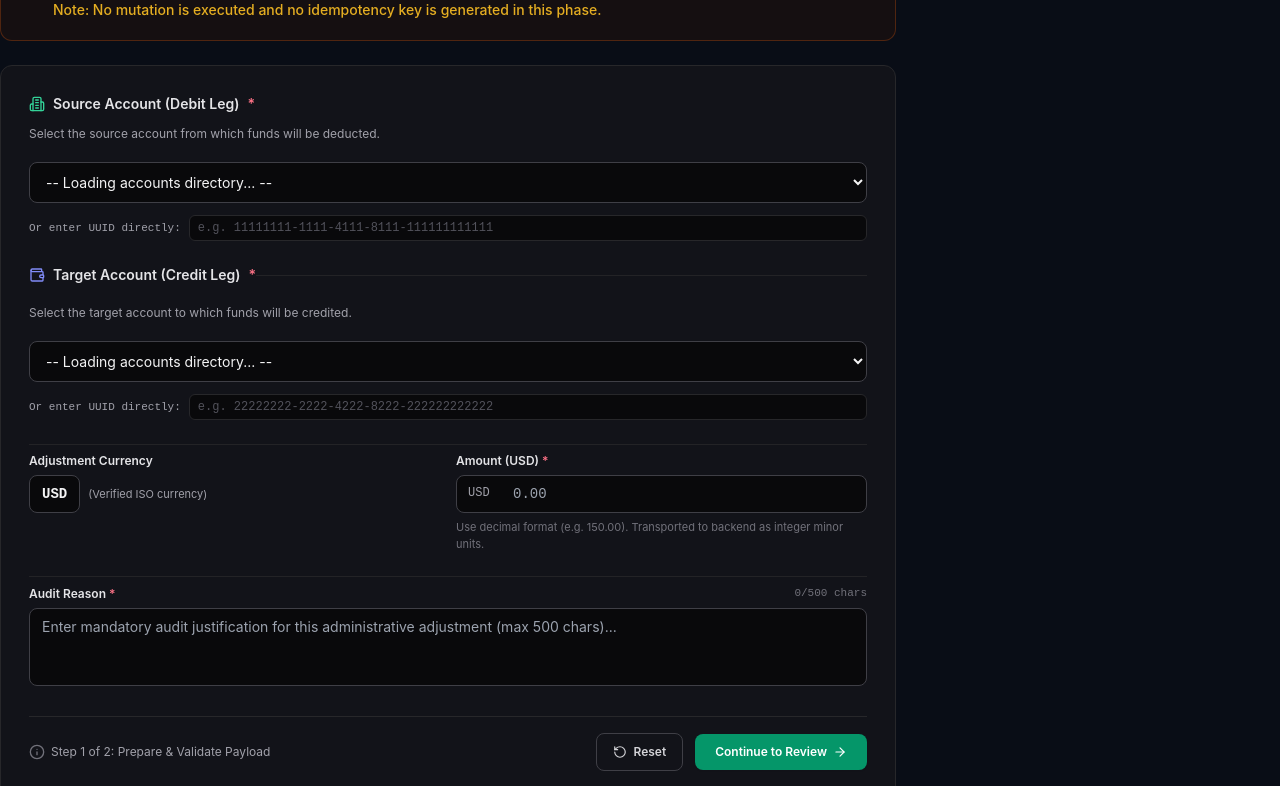
Test: Phase F7-H-B Admin Financial Adjustment Workspace & Form Component › Client-Side Form Validation › validates empty submission and renders accessible error messages
(page scrolled)
Click the button "Continue to Review" at (781, 752), box [695, 734, 867, 770]
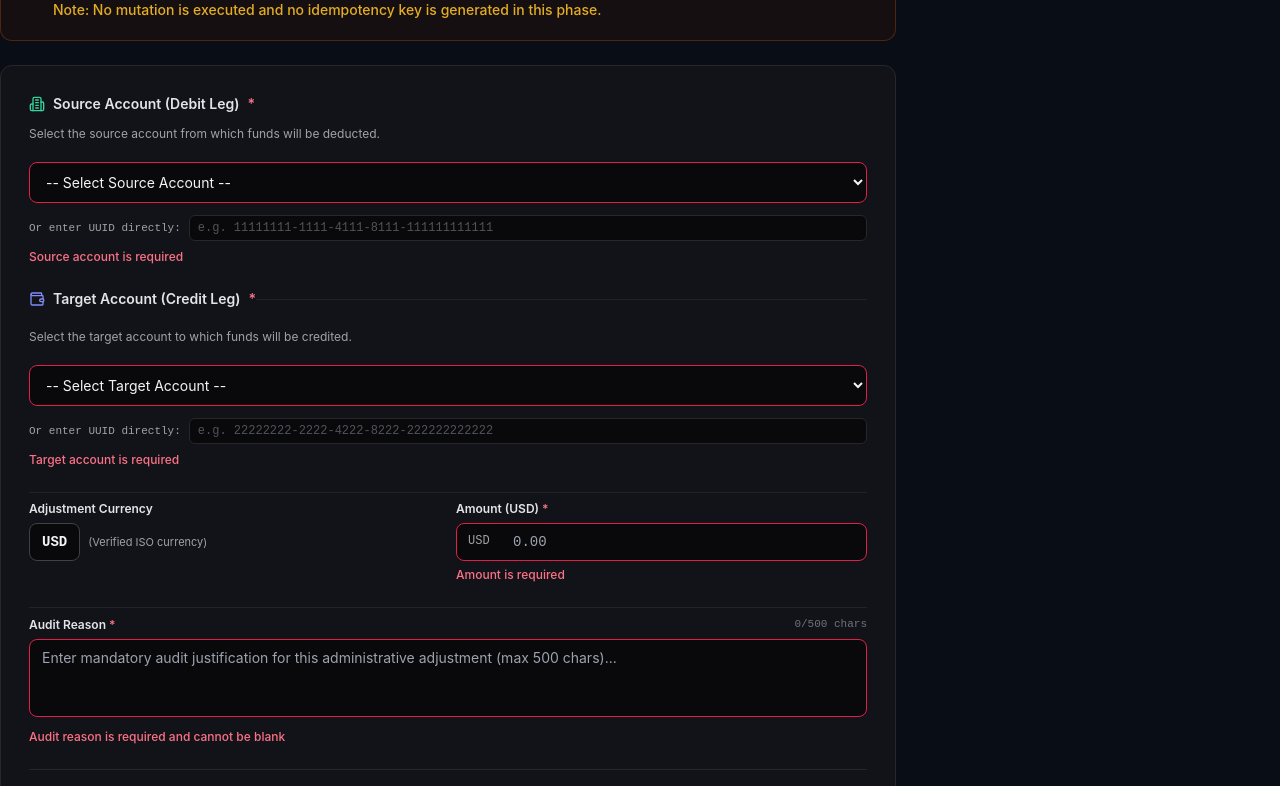
Check: the text "Source account is required" is shown, box [29, 249, 183, 264]
Check: the text "Target account is required" is shown, box [29, 452, 179, 467]
Check: the text "Amount is required" is shown, box [456, 567, 565, 582]
